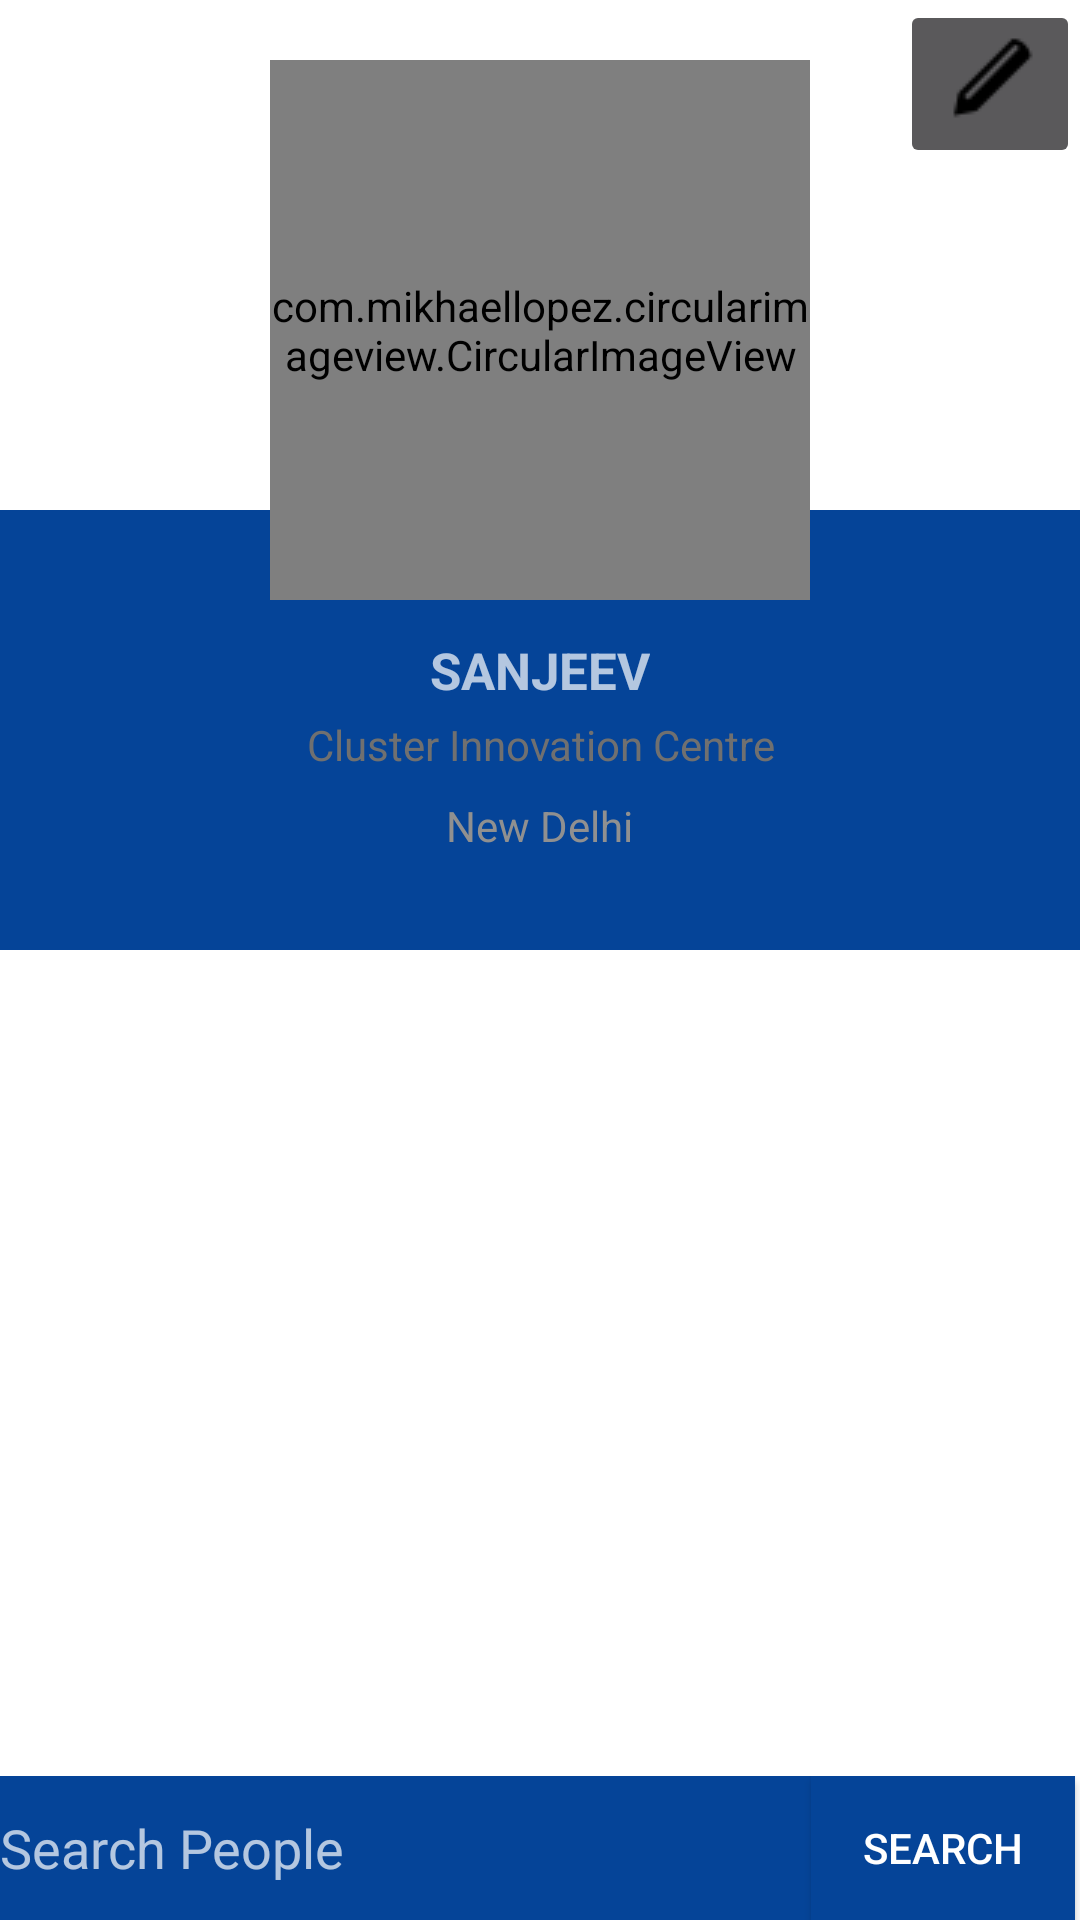

Icon click points for this 1080×1920 phone screenshot, format [x,y]:
edit: [990,84]
